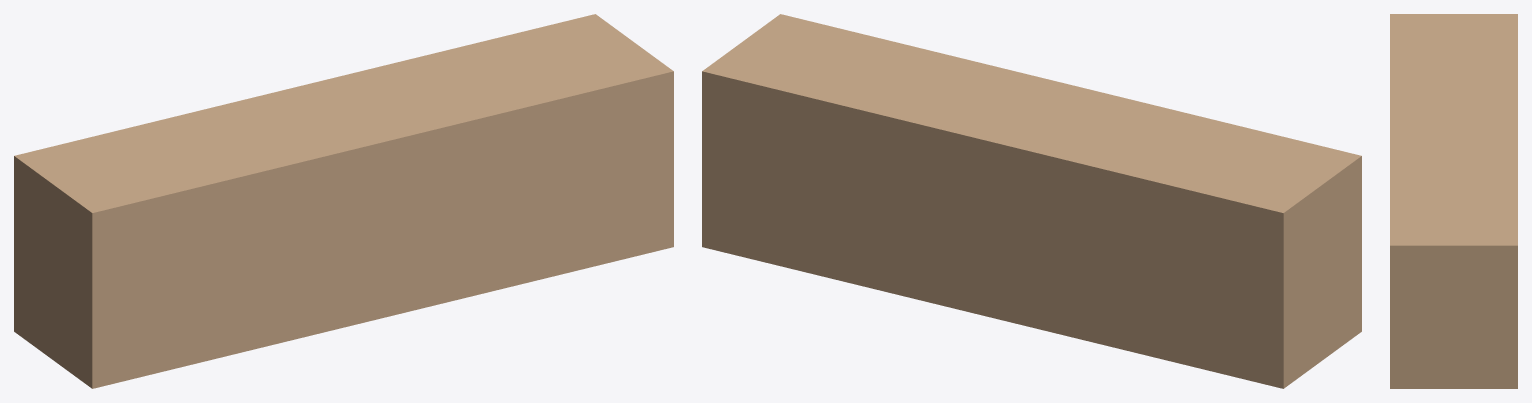
File: media_console_01.glb
3 renders of one model, left to right at view 1: azimuth 30°, elevation 25°; view 2: azimuth 150°, elevation 25°; view 3: azimuth 270°, elevation 25°, orthographic. The views are drawn at different scales.
Bounding box in the file's own units: 1.8 × 0.52 × 0.42.
